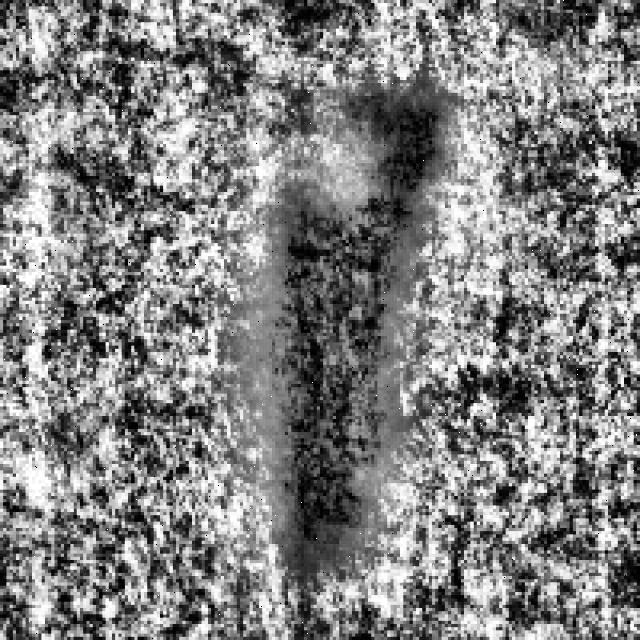Scratches: (268, 93, 438, 576)
